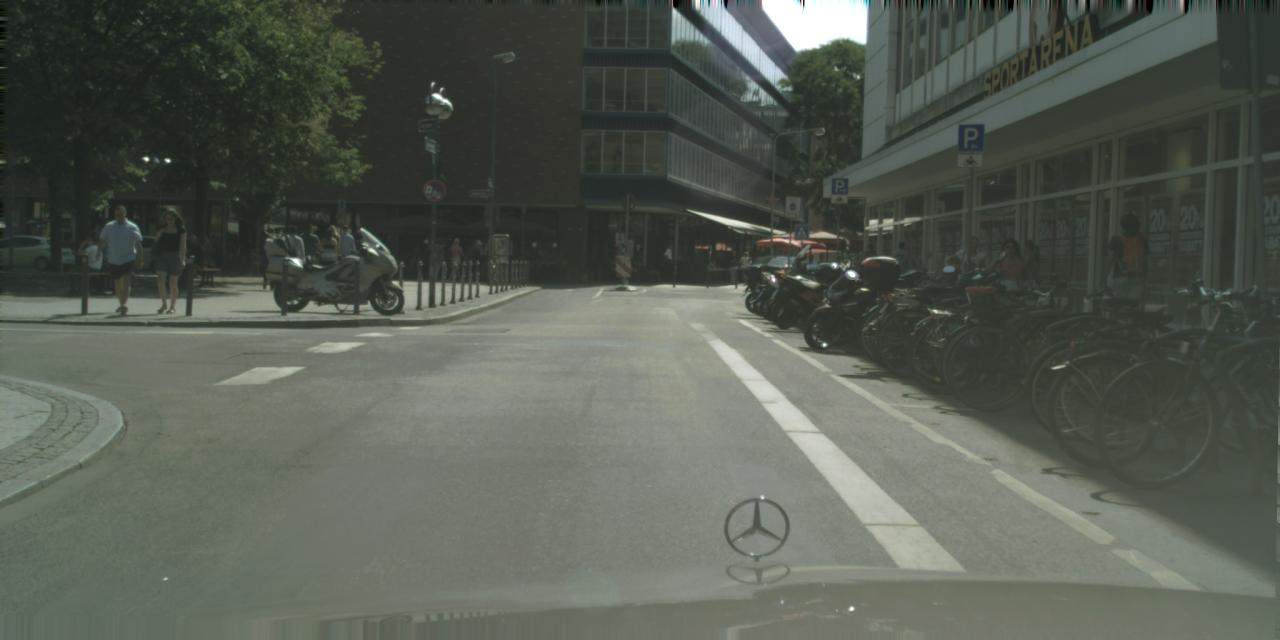ped: (1100, 212, 1159, 356), (99, 205, 142, 312), (145, 208, 188, 314), (990, 238, 1028, 334), (1010, 239, 1048, 333), (954, 235, 990, 326), (856, 242, 884, 310), (279, 225, 305, 291), (314, 230, 340, 294), (296, 225, 322, 288), (888, 241, 913, 305), (333, 223, 358, 286), (318, 225, 343, 288), (256, 228, 282, 288), (430, 240, 448, 282), (447, 237, 464, 279), (726, 248, 740, 283), (663, 243, 676, 276), (739, 251, 752, 283)
